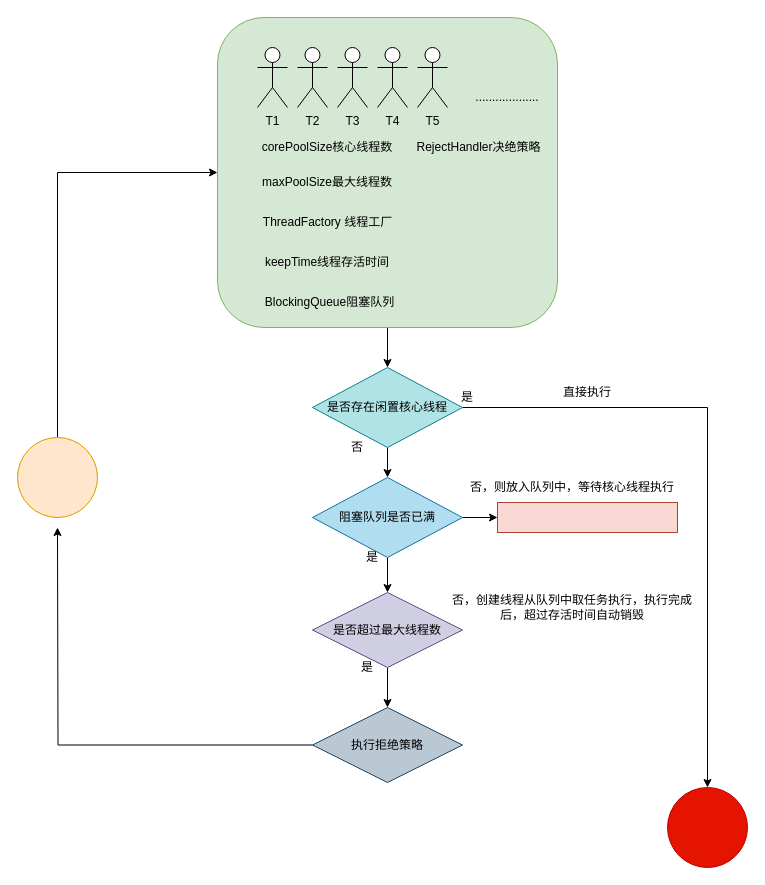
Image size: 765x885. Some labels were removed from this diagram. Each missing label, with the centre of its shape:
"User" belongs at point (57, 477).
"结束" belongs at point (707, 827).
"阻塞队列" belongs at point (587, 517).
